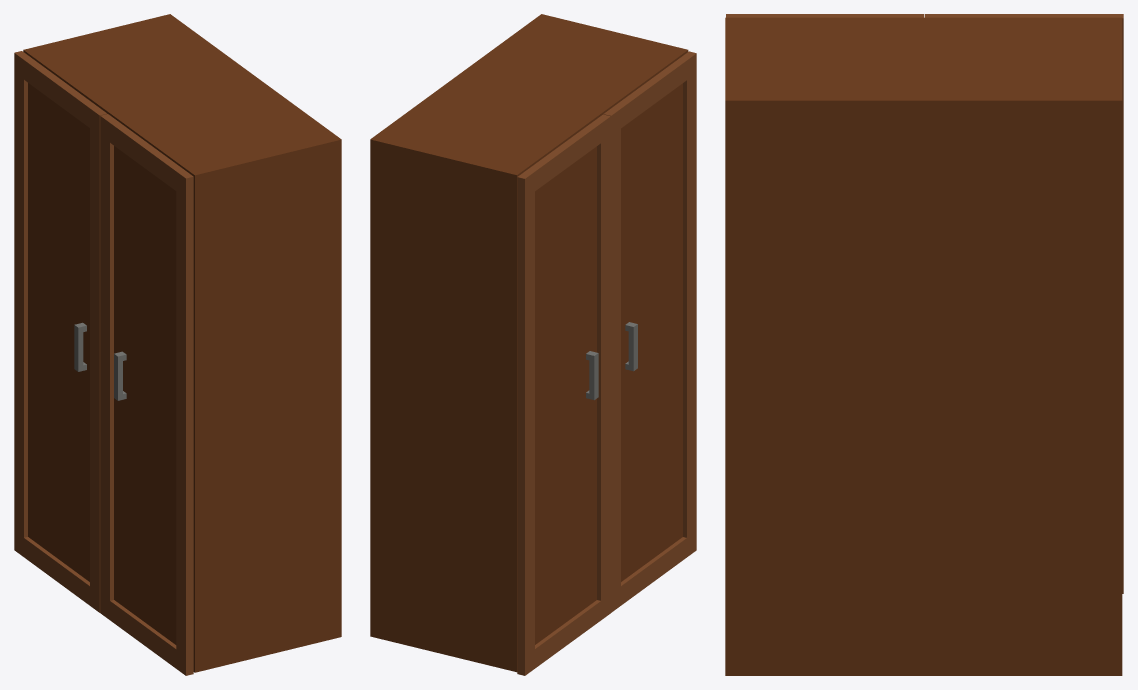
The model's file is Cupboard.fbx.
The picture shows the model from 3 angles, left to right: view 1: azimuth 30°, elevation 25°; view 2: azimuth 150°, elevation 25°; view 3: azimuth 270°, elevation 25°; orthographic projection. The views are drawn at different scales.
Parts seen in each view (by area): view 1: Cylinder.1261; view 2: Cylinder.1261; view 3: Cylinder.1261.
Part boxes in pixels (box(x1,y1,x2,y2)): Cylinder.1261: box(14, 14, 341, 675); Cylinder.1261: box(370, 14, 696, 675); Cylinder.1261: box(725, 14, 1123, 675).
Bounding box in the file's own units: 82.41 × 245 × 153.
Materials: 1 (1 with a texture image).
